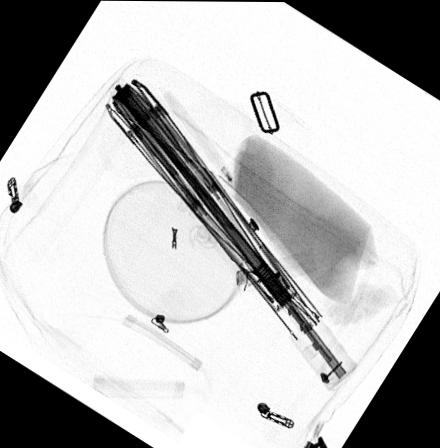Lighter: (235, 253, 315, 294)
